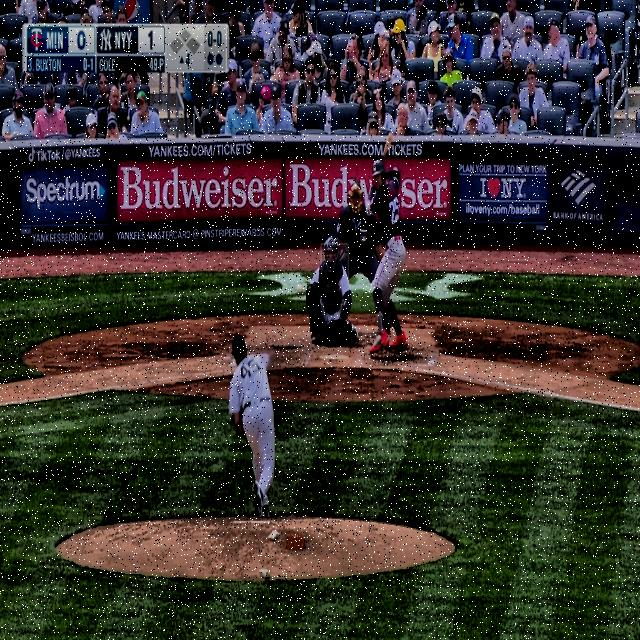baseball: (296, 282, 303, 295)
